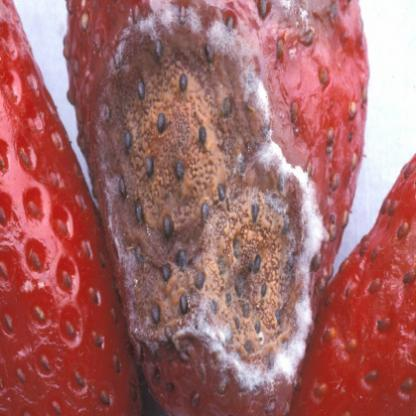Strawberry_Anthracnose_Fruit_Rot: (72, 0, 345, 415)
